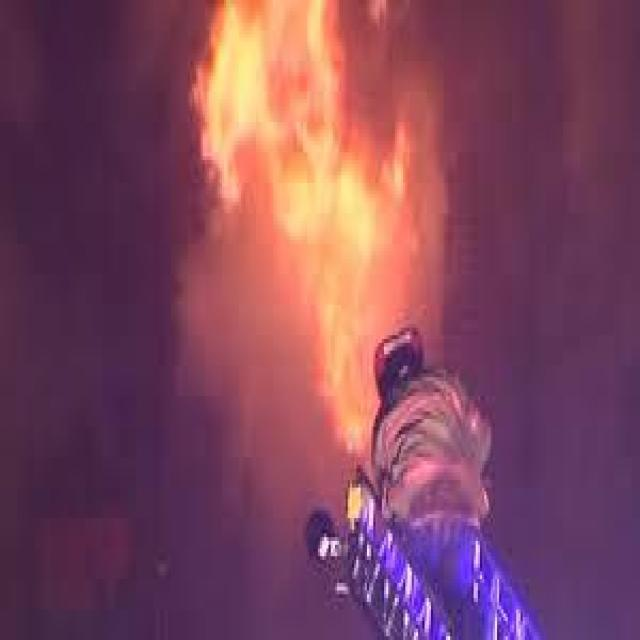Fire: (196, 1, 455, 436)
Smoke: (12, 19, 194, 569), (456, 14, 627, 374), (506, 401, 630, 574), (200, 458, 306, 634)
